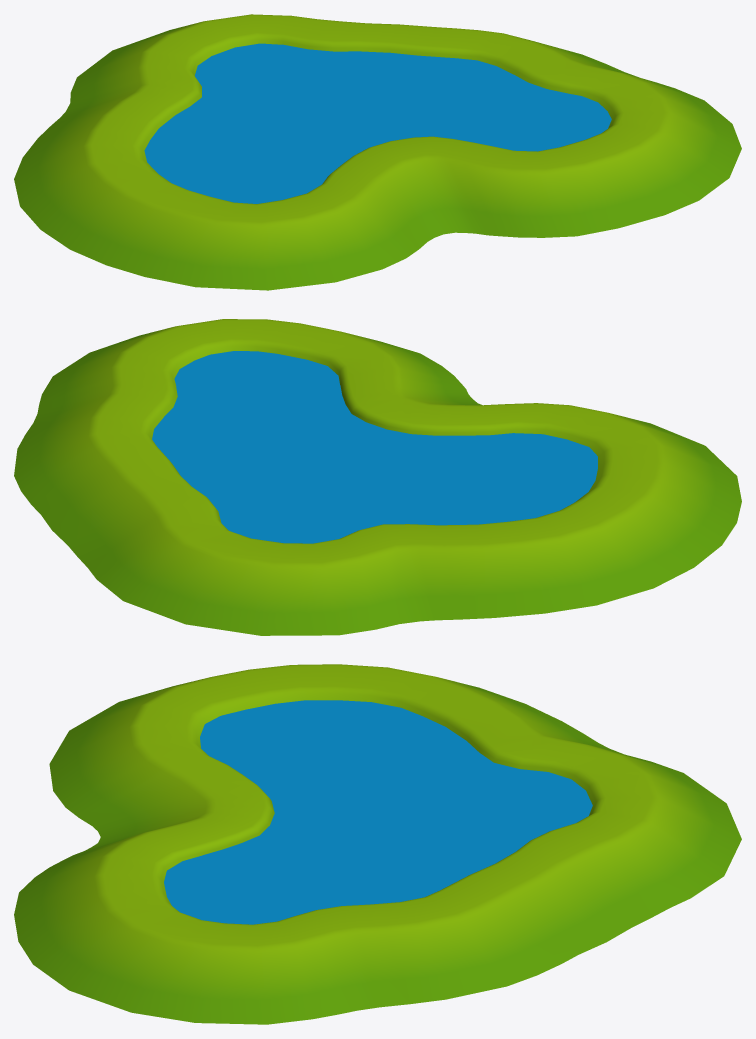
Rendered from Lake03.fbx.
3 views of the same model, one above another, from view 1: azimuth 30°, elevation 25°; view 2: azimuth 150°, elevation 25°; view 3: azimuth 270°, elevation 25° (orthographic). The views are drawn at different scales.
Parts seen in each view (by area): view 1: LOD0; view 2: LOD0; view 3: LOD0.
Part boxes in pixels (x1,y1,x2,y2): LOD0: (14,14,741,290); LOD0: (14,319,741,635); LOD0: (14,664,741,1024).
Size of what is drawn, in the model's own units: 2054 by 1780 by 112.
